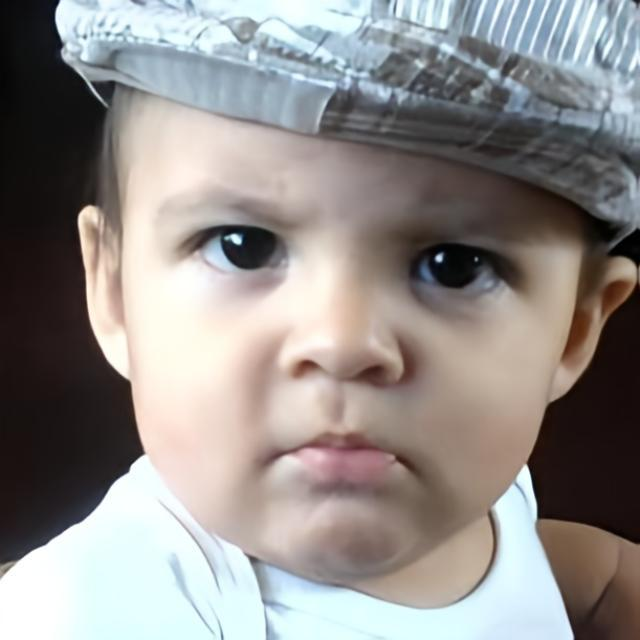anger: (126, 115, 562, 576)
